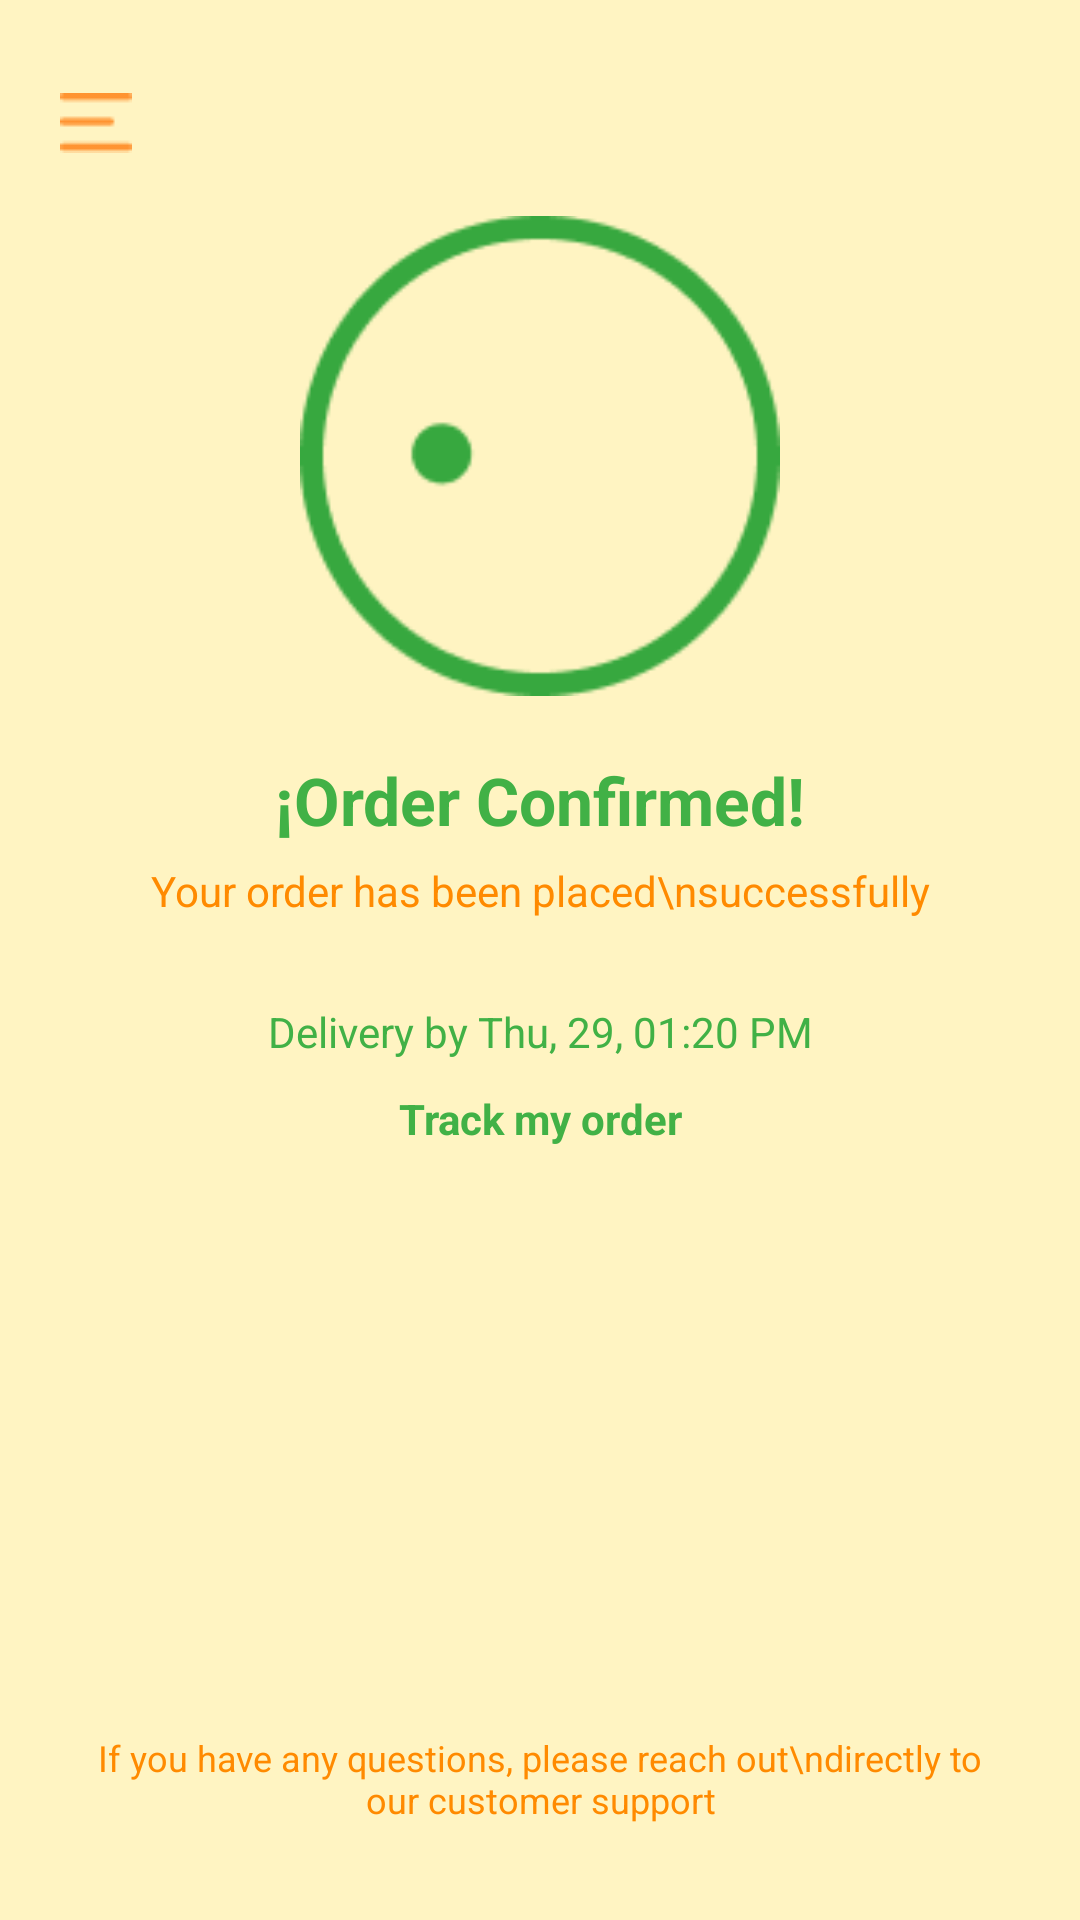

Where icons sit on this 1080w x 1920h app screen, as Rect(x1, y1, x2, y2):
Menu: Rect(60, 93, 132, 153)
